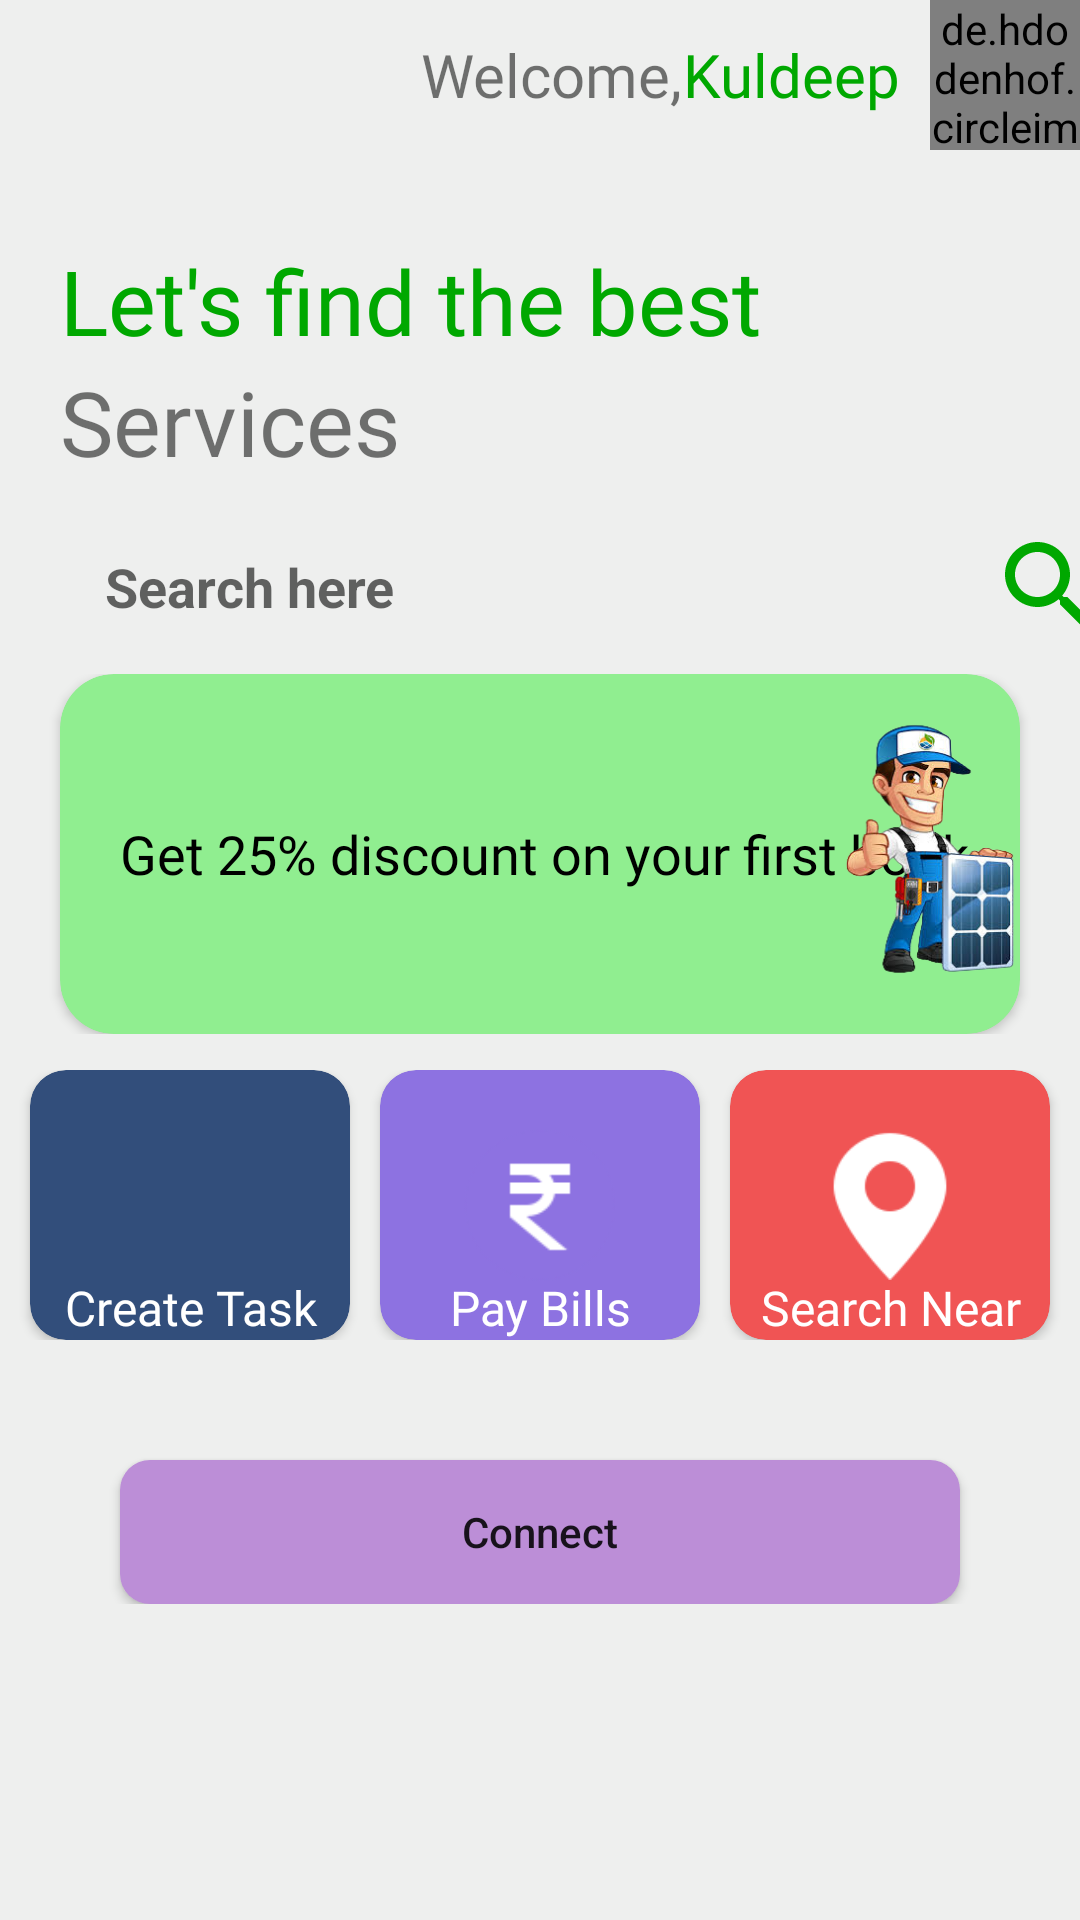

Locate icon controls on the screen. Image size 1080x1920, boxes as (x1, y1, x2, y2).
electrician: (846, 725, 1014, 973)
location: (833, 1133, 947, 1280)
rupee: (509, 1163, 579, 1295)
